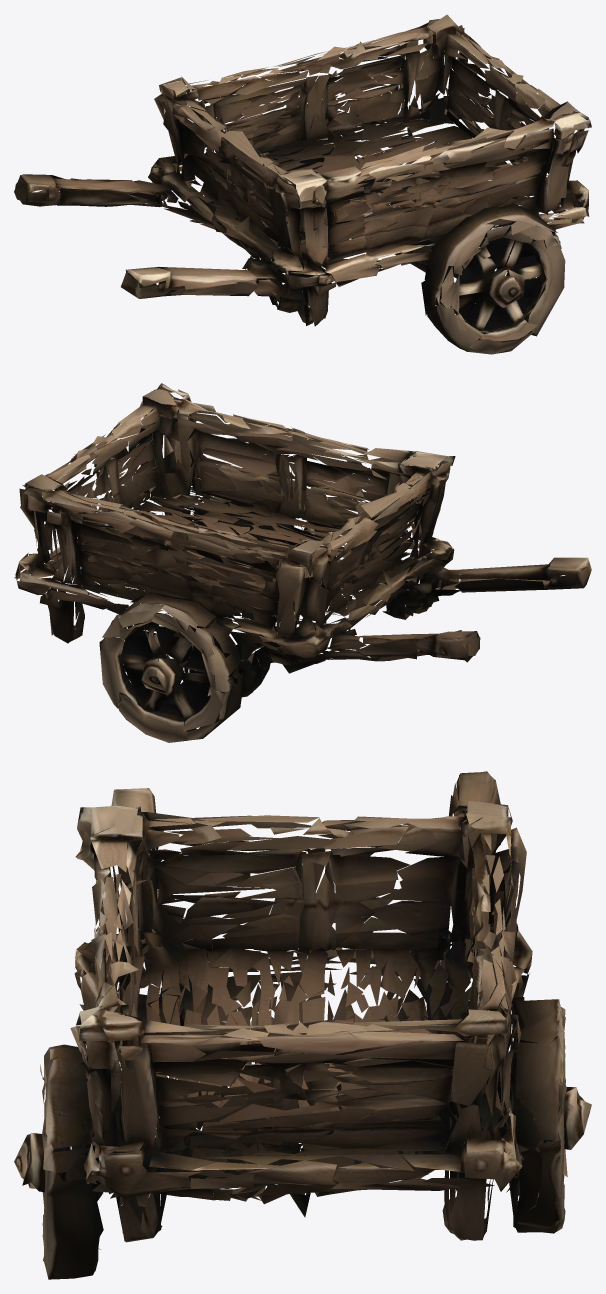
File: carrinho.glb
The picture shows the model from 3 angles, top to bottom: view 1: azimuth 30°, elevation 25°; view 2: azimuth 150°, elevation 25°; view 3: azimuth 270°, elevation 25°; orthographic projection. The views are drawn at different scales.
Visible parts, largest first — view 1: tripo_node_8c91eb38-b375-46c1-8dc4-c11ef4a1b3b2; view 2: tripo_node_8c91eb38-b375-46c1-8dc4-c11ef4a1b3b2; view 3: tripo_node_8c91eb38-b375-46c1-8dc4-c11ef4a1b3b2.
Boxes of the visible parts, left/top/right/bottom form: tripo_node_8c91eb38-b375-46c1-8dc4-c11ef4a1b3b2: left=14, top=14, right=591, bottom=354; tripo_node_8c91eb38-b375-46c1-8dc4-c11ef4a1b3b2: left=14, top=383, right=591, bottom=742; tripo_node_8c91eb38-b375-46c1-8dc4-c11ef4a1b3b2: left=14, top=771, right=591, bottom=1279.
Bounding box in the file's own units: 0.984 × 0.4318 × 0.7019.
1 material, 1 textured.
